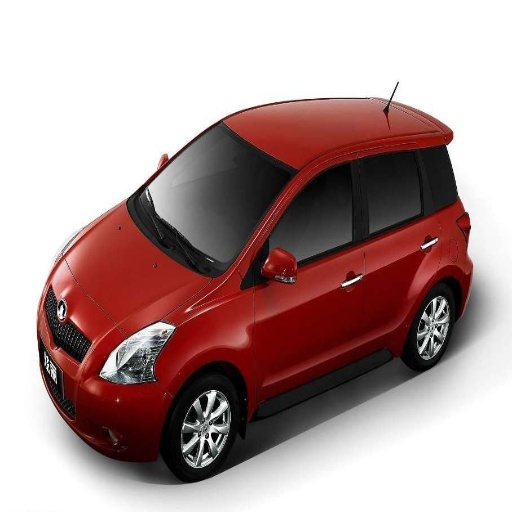front_bumper: (41, 338, 174, 458)
front_glass: (133, 136, 294, 276)
front_left_door: (257, 157, 363, 400)
